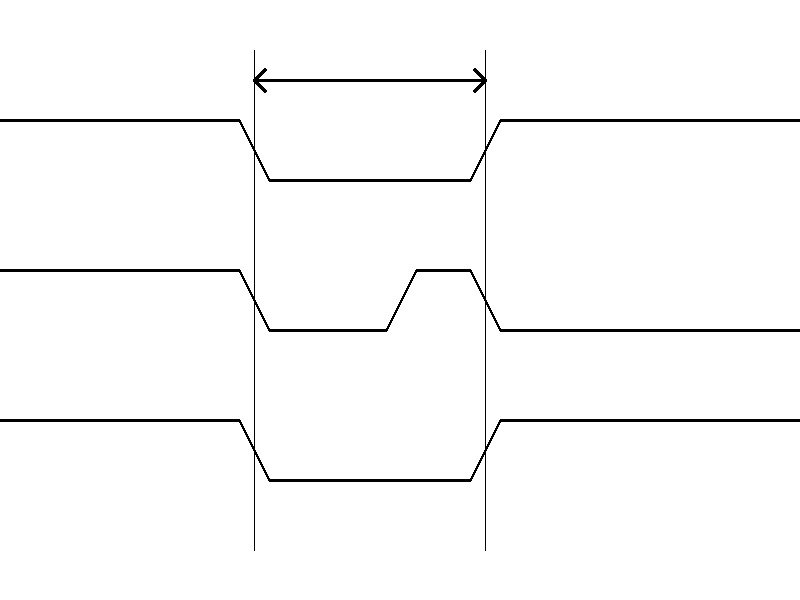double_arrow: (254, 65, 485, 95)
